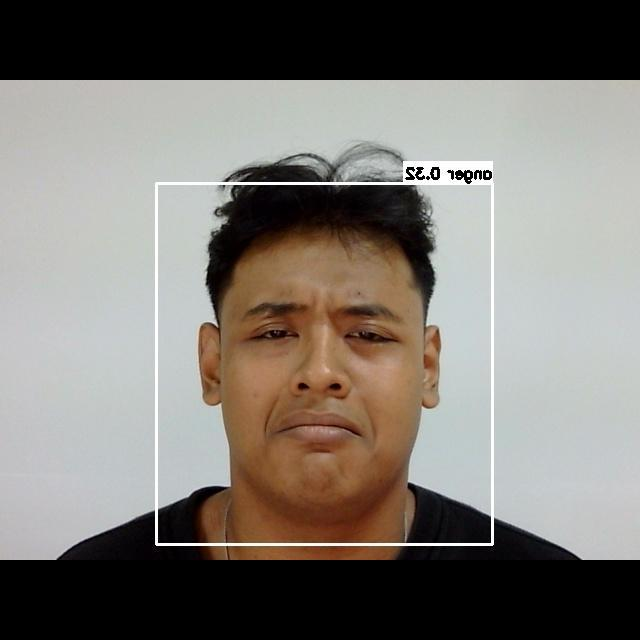Sad: (200, 264, 435, 485)
